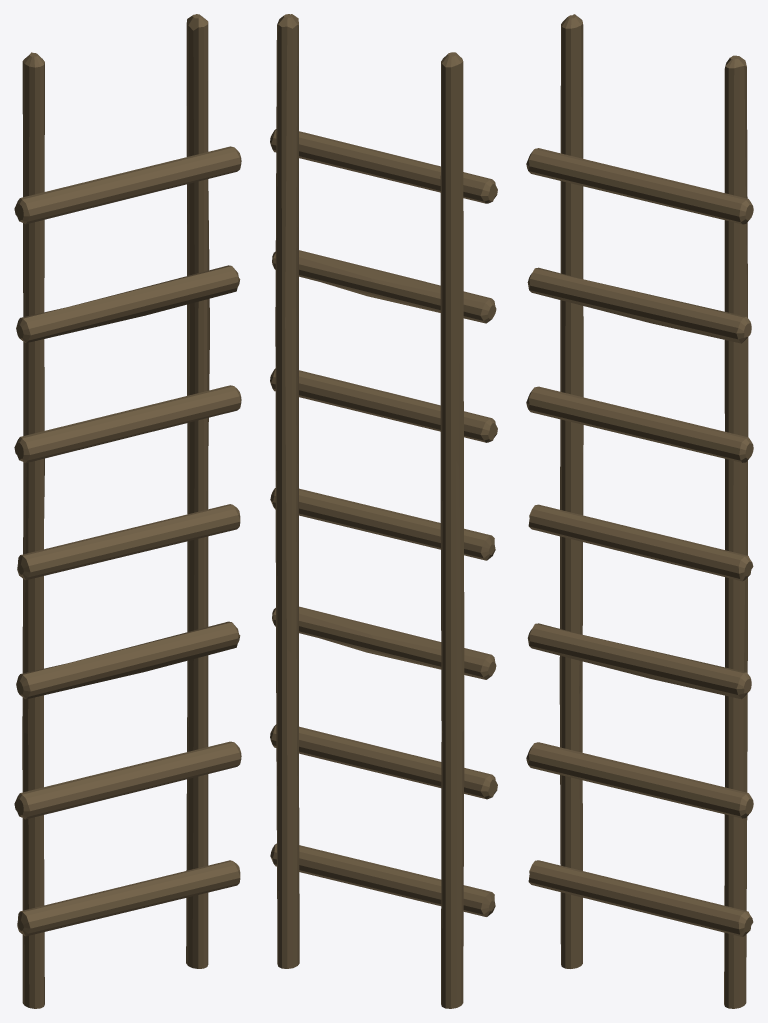
File: greek_ladder.fbx
3 views of the same model, side by side, from view 1: azimuth 30°, elevation 25°; view 2: azimuth 150°, elevation 25°; view 3: azimuth 330°, elevation 25° (orthographic).
Visible parts, largest first — view 1: Cylinder.001; view 2: Cylinder.001; view 3: Cylinder.001.
Part boxes in pixels (x1,y1,x2,y2): Cylinder.001: (14,14,241,1008); Cylinder.001: (270,14,497,1008); Cylinder.001: (526,14,753,1008).
Size of the model in its own units: 96.49 by 400 by 19.99.
